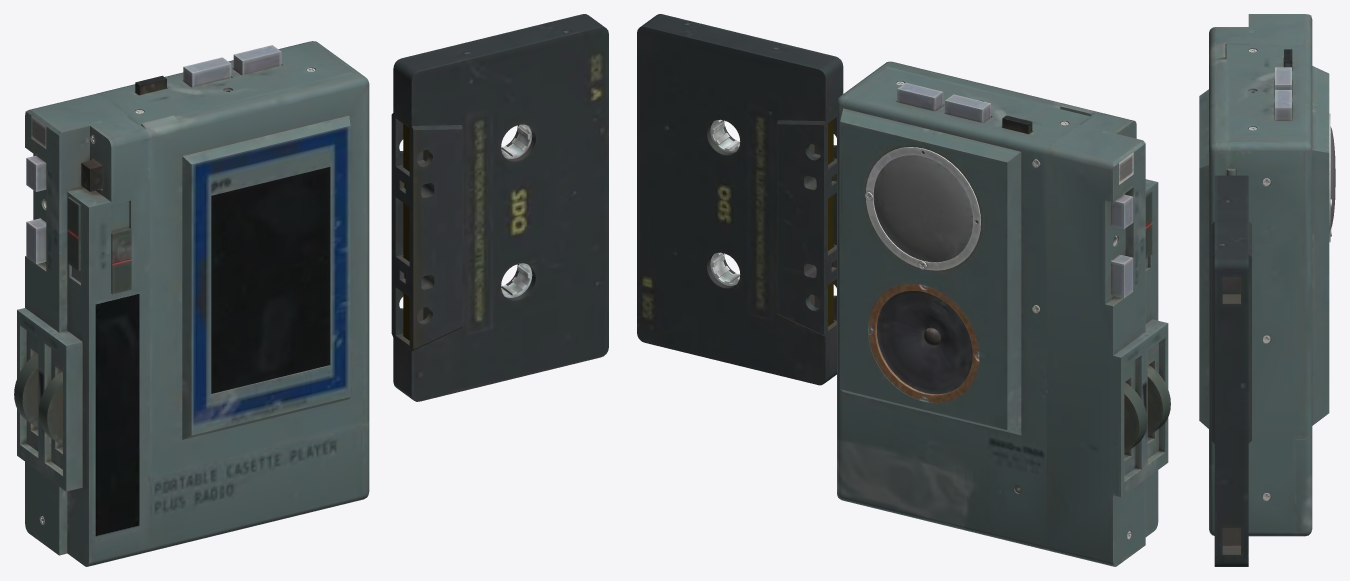
Rendered from tape.glb.
3 views of the same model, side by side, from view 1: azimuth 30°, elevation 25°; view 2: azimuth 150°, elevation 25°; view 3: azimuth 270°, elevation 25° (orthographic). The views are drawn at different scales.
Parts seen in each view (by area): view 1: portable_cassette_player_lid; view 2: portable_cassette_player_lid; view 3: portable_cassette_player_lid.
Boxes of the visible parts, <box> form: portable_cassette_player_lid: <box>14,14,608,566</box>; portable_cassette_player_lid: <box>637,14,1170,566</box>; portable_cassette_player_lid: <box>1199,14,1335,566</box>.
Bounding box in the file's own units: 0.1723 × 0.1303 × 0.0397.
2 materials, 2 textured.
